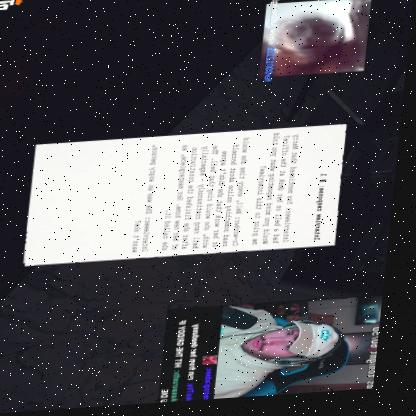donation: (260, 0, 374, 87)
streamer: (224, 303, 356, 402)
